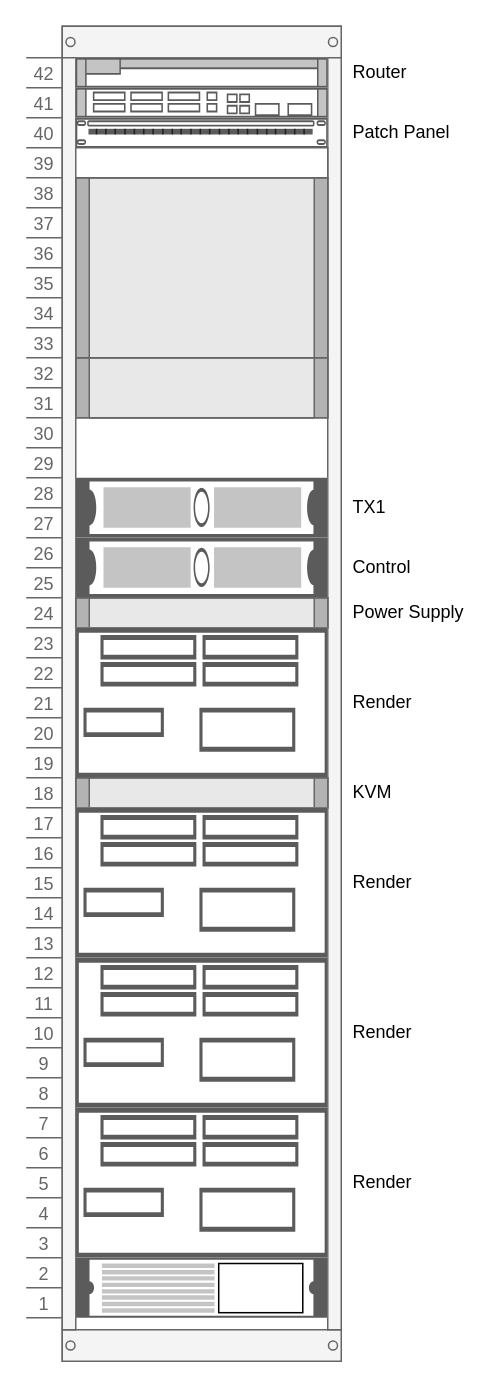
This 491x1388 diagram has some shape labels left out. The shapes that lost their labels are listed below. From the top down, each one's box as (x1, y1, x2, y2) in pixels, then its label:
(74, 86, 328, 118): Switch
(74, 146, 328, 178): PoE Injector
(74, 176, 328, 358): Core Panel
(74, 356, 328, 418): Motor Panel
(74, 1256, 328, 1318): UPS
